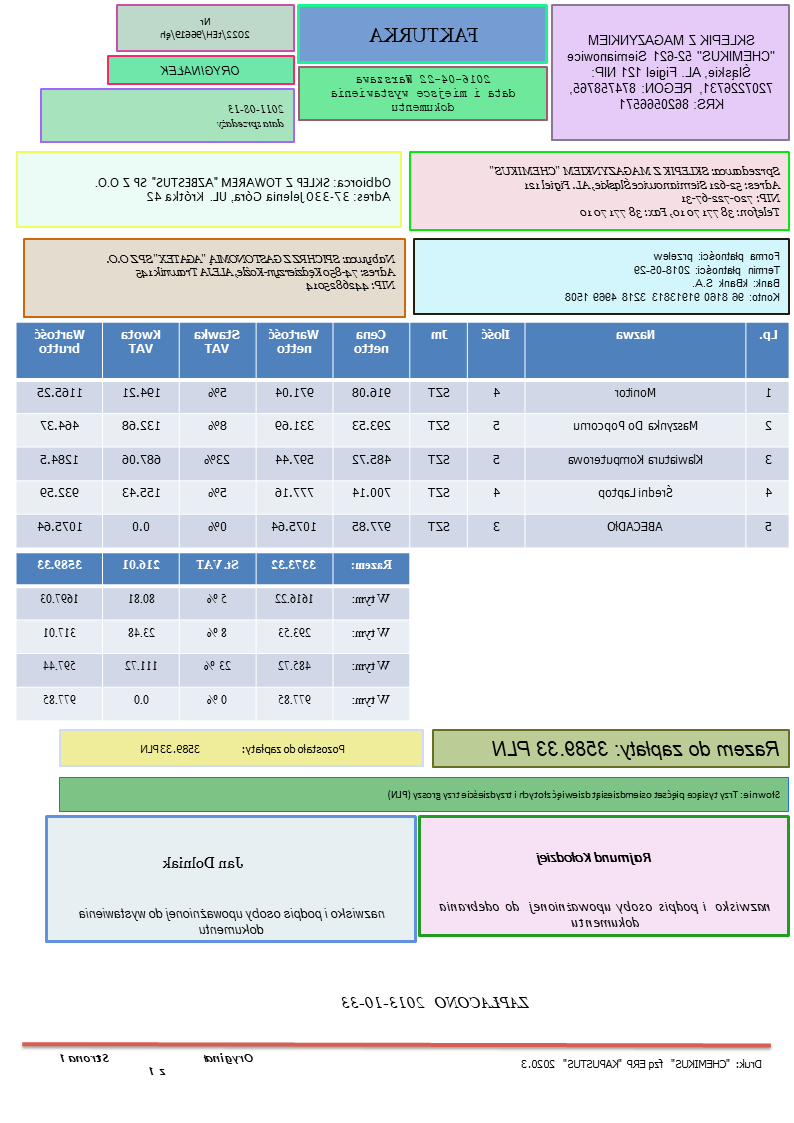Table: (15, 321, 791, 549), (15, 550, 411, 722)
TextBox: (485, 162, 785, 221), (564, 31, 777, 113), (104, 250, 398, 294), (564, 248, 784, 304), (438, 899, 773, 930), (78, 904, 387, 937), (93, 174, 394, 205), (328, 72, 518, 115), (489, 735, 783, 760), (386, 787, 784, 802), (57, 1051, 256, 1077), (520, 1055, 764, 1071), (341, 993, 530, 1012), (140, 741, 347, 756), (158, 15, 252, 43), (367, 24, 483, 46), (535, 849, 655, 867), (216, 101, 287, 131), (159, 853, 246, 873), (158, 61, 243, 78)
